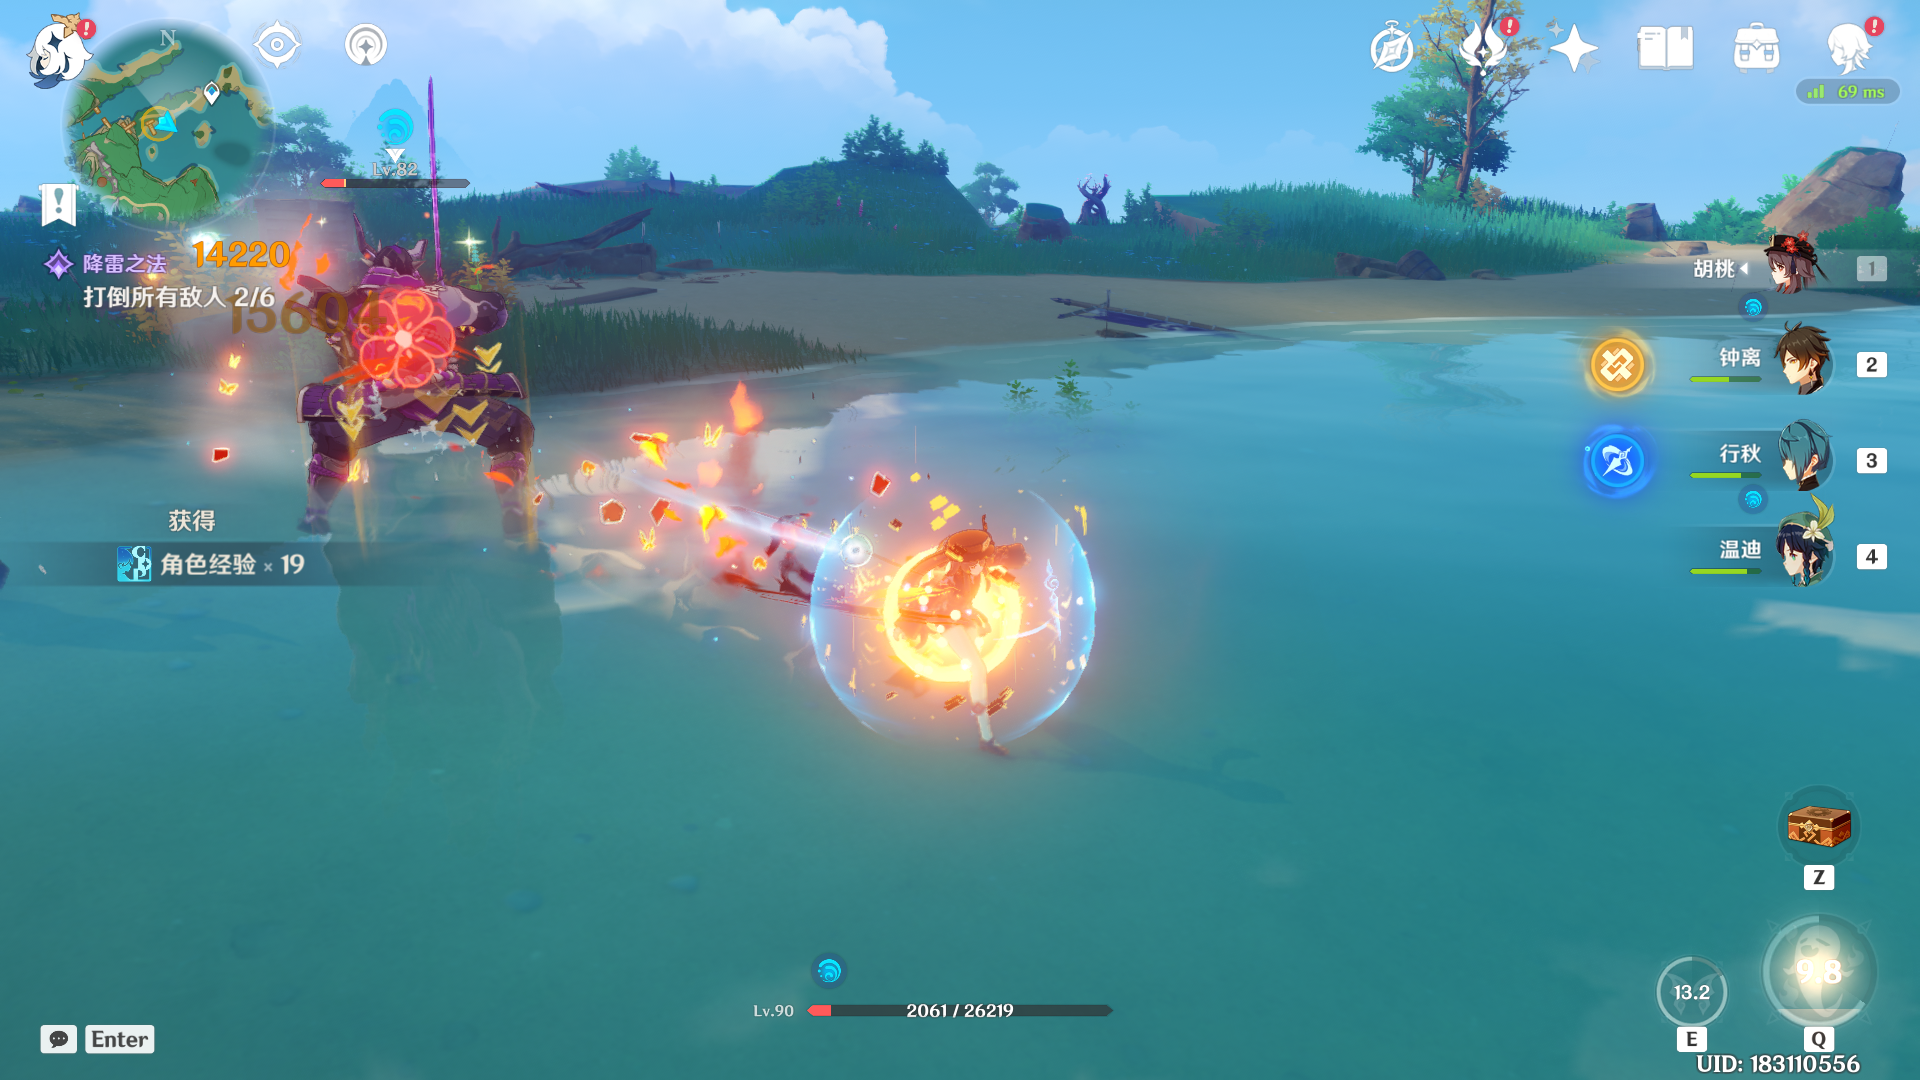character: (876, 495, 1052, 778)
samurai: (286, 177, 560, 584)
